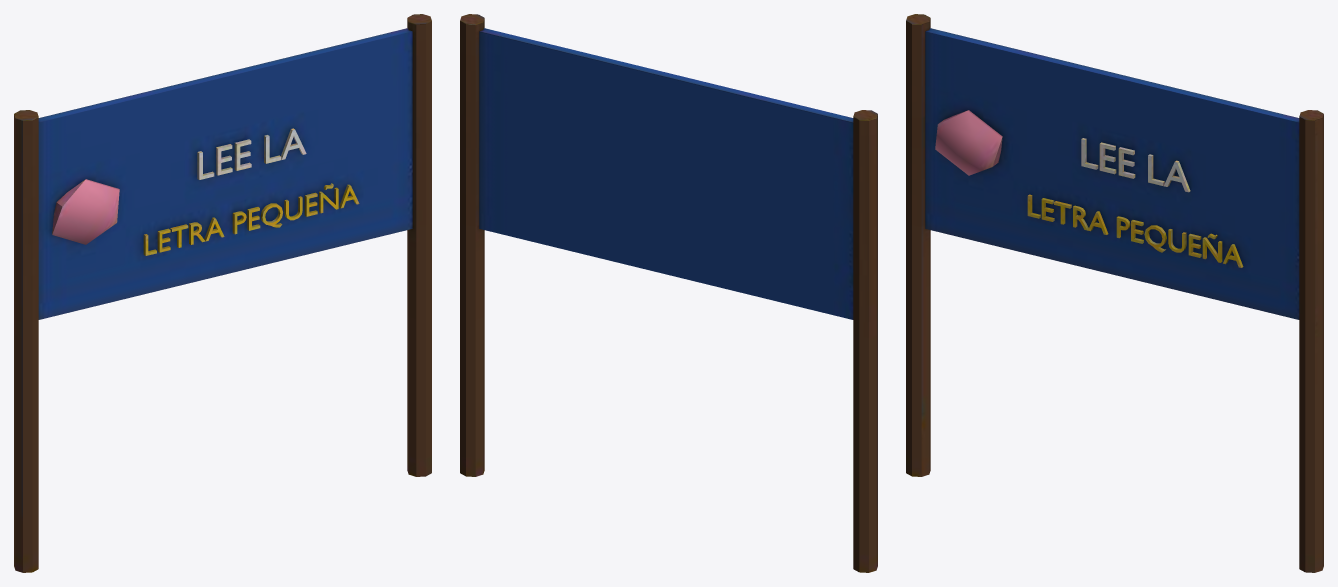
The model's file is cartel_ct.glb.
3 views of the same model, side by side, from view 1: azimuth 30°, elevation 25°; view 2: azimuth 150°, elevation 25°; view 3: azimuth 330°, elevation 25° (orthographic).
Parts seen in each view (by area): view 1: cartel_ct; view 2: cartel_ct; view 3: cartel_ct.
Boxes of the visible parts, bbox=[...] form: cartel_ct: bbox=[14, 14, 431, 572]; cartel_ct: bbox=[460, 14, 877, 572]; cartel_ct: bbox=[906, 14, 1323, 572].
Size of the model in its own units: 2.64 by 2.75 by 0.1881.
1 material, 1 textured.
